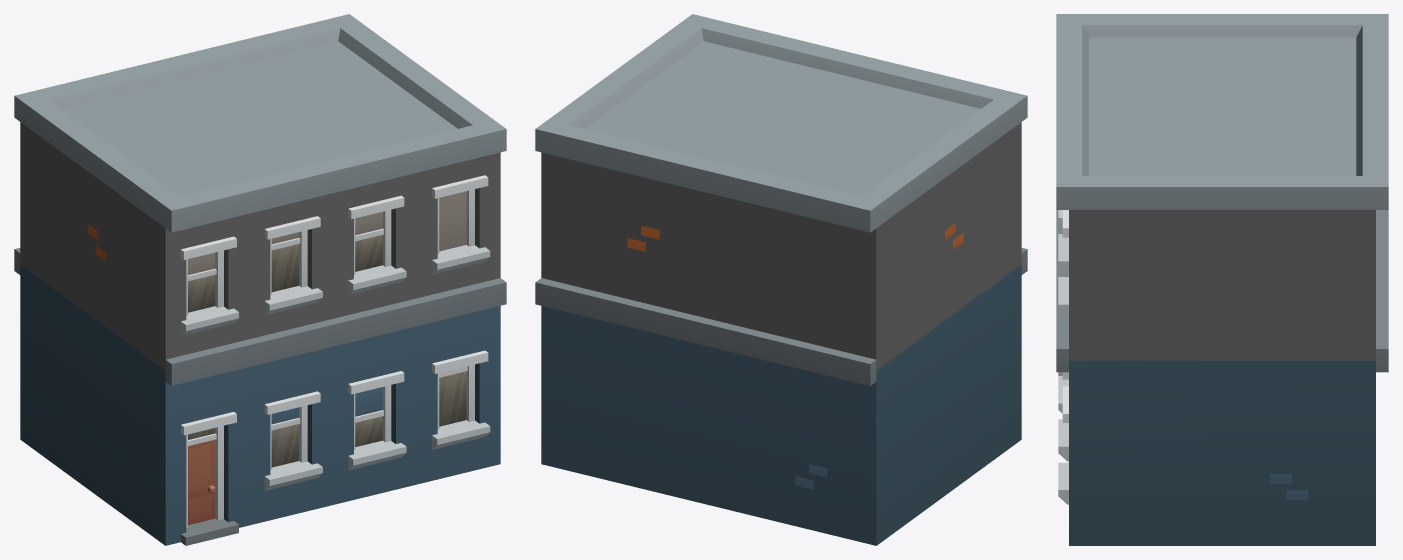
Rendered from nha12.glb.
The picture shows the model from 3 angles, left to right: view 1: azimuth 30°, elevation 25°; view 2: azimuth 150°, elevation 25°; view 3: azimuth 270°, elevation 25°; orthographic projection. The views are drawn at different scales.
Parts seen in each view (by area): view 1: building_B_withoutBase_Cube.941; view 2: building_B_withoutBase_Cube.941; view 3: building_B_withoutBase_Cube.941.
Boxes of the visible parts, x1=… form: building_B_withoutBase_Cube.941: x1=14, y1=14, x2=506, y2=545; building_B_withoutBase_Cube.941: x1=535, y1=14, x2=1027, y2=545; building_B_withoutBase_Cube.941: x1=1056, y1=14, x2=1388, y2=545.
Bounding box in the file's own units: 1.61 × 1.55 × 1.3.
Materials: 2 (1 with a texture image).
